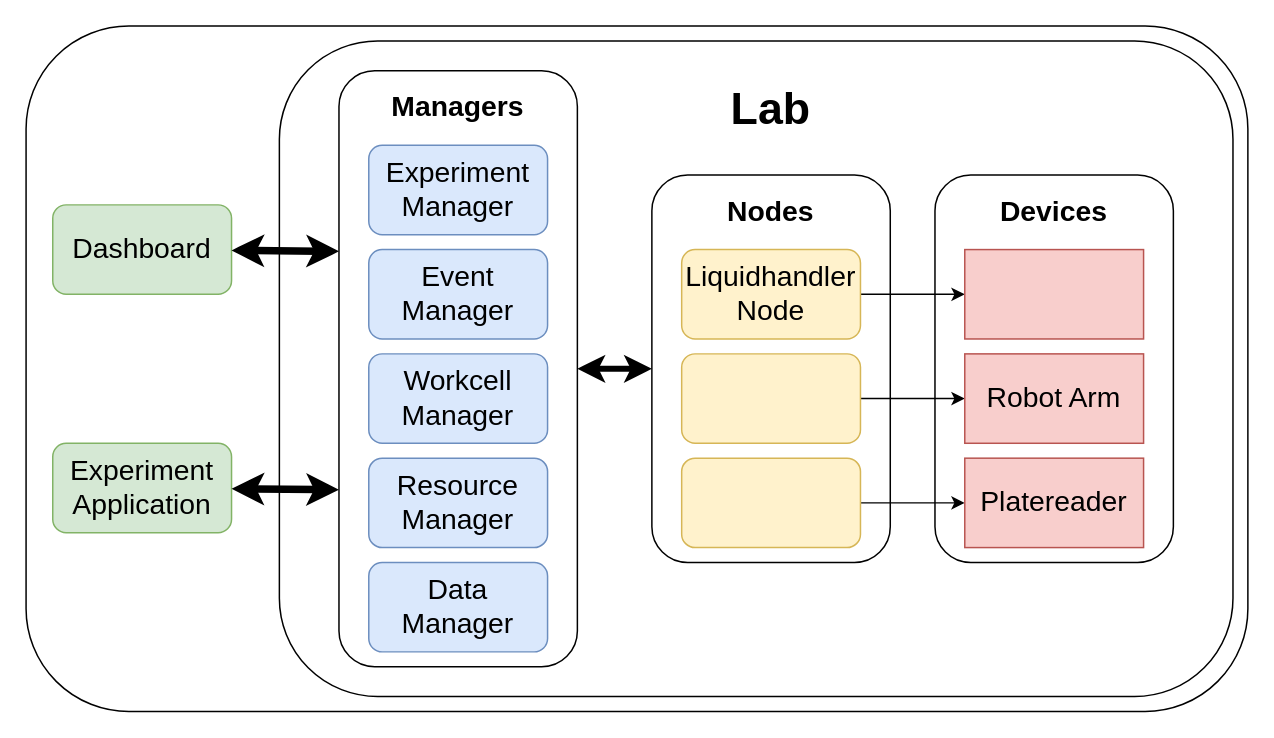
Image size: 1274x738. Some labels were removed from this diagram. Each missing label, with the centre of its shape:
"Liquidhandler" belongs at (1053,293).
"Platereader Node" belongs at (770,502).
"Robot Arm Node" belongs at (770,397).
